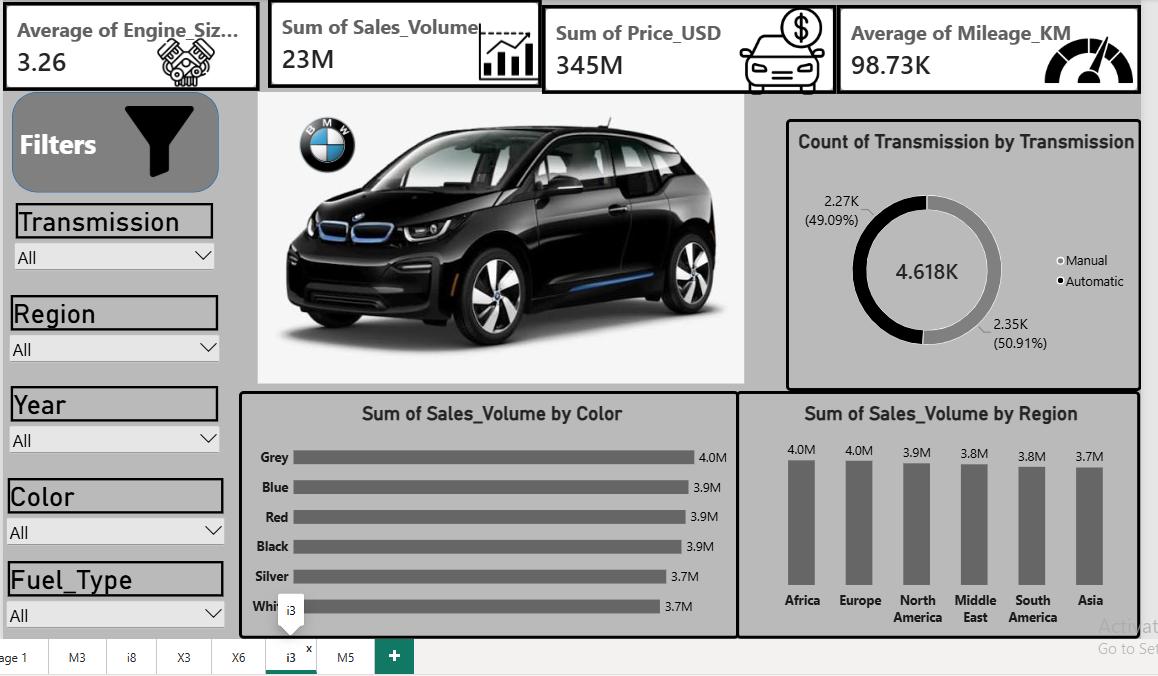

Layout of this report page (visuals, bound fields, positions):
{"tool":"powerbi","page":{"name":"i3","canvas":[1920,1080],"ordinal":5},"visuals":[{"type":"image","box":[362.4,156.1,954.2,491.6],"z":0},{"type":"slicer","fields":{"Values":["BMW_Car_Sales_Classification (1).Year"]},"box":[5.8,653.5,366.3,129.2],"z":1000},{"type":"slicer","fields":{"Values":["BMW_Car_Sales_Classification (1).Region"]},"box":[5.8,499.3,366.3,129.2],"z":2000},{"type":"slicer","fields":{"Values":["BMW_Car_Sales_Classification (1).Transmission"]},"box":[13.5,345.1,348.9,129.2],"z":3000},{"type":"slicer","fields":{"Values":["BMW_Car_Sales_Classification (1).Color"]},"box":[0,807.7,379.8,115.7],"z":4000},{"type":"slicer","fields":{"Values":["BMW_Car_Sales_Classification (1).Fuel_Type"]},"box":[0,948.4,379.8,131.1],"z":5000},{"type":"shape","box":[15.4,156.1,348.9,169.6],"z":6000},{"type":"image","box":[165.8,181.2,196.6,119.5],"z":7000},{"type":"image","box":[414.5,161.9,264.1,167.7],"z":8000},{"type":"barChart","fields":{"Category":["BMW_Car_Sales_Classification (1).Color"],"Y":["Sum(BMW_Car_Sales_Classification (1).Sales_Volume)"]},"box":[399,661.2,844.3,418.3],"z":9000},{"type":"columnChart","fields":{"Category":["BMW_Car_Sales_Classification (1).Region"],"Y":["Sum(BMW_Car_Sales_Classification (1).Sales_Volume)"]},"box":[1237.6,661.2,682.4,418.3],"z":10000},{"type":"donutChart","fields":{"Category":["BMW_Car_Sales_Classification (1).Transmission"],"Y":["CountNonNull(BMW_Car_Sales_Classification (1).Transmission)"]},"box":[1320.5,202.4,599.5,458.8],"z":11000},{"type":"cardVisual","fields":{"Data":["Sum(BMW_Car_Sales_Classification (1).Sales_Volume)"]},"box":[447.2,0,462.7,150.4],"z":12000},{"type":"cardVisual","fields":{"Data":["Sum(BMW_Car_Sales_Classification (1).Price_USD)"]},"box":[909.9,9.6,497.3,150.4],"z":13000},{"type":"cardVisual","fields":{"Data":["Avg(BMW_Car_Sales_Classification (1).Mileage_KM)"]},"box":[1407,10,513,150],"z":14000},{"type":"image","box":[1224.1,13.5,183.1,148.4],"z":15000},{"type":"image","box":[801.9,0,108,177.3],"z":17000},{"type":"image","box":[1744.6,28.9,175.4,148.4],"z":18000},{"type":"cardVisual","fields":{"Data":["Avg(BMW_Car_Sales_Classification (1).Engine_Size_L)"]},"box":[0,5.8,433.7,150.4],"z":19000},{"type":"image","box":[165.8,59.8,287.2,96.4],"z":20000}]}

Visuals, with their boxes on the page's 1920x1080 design canvas (x1, y1, x2, y2). These are canvas units, not pixel positions in the 1158x676 screenshot, which may show the page scaled, cropped or inside an application window:
image: <box>362,156,1317,648</box>
slicer - BMW_Car_Sales_Classification (1).Year: <box>6,654,372,783</box>
slicer - BMW_Car_Sales_Classification (1).Region: <box>6,499,372,628</box>
slicer - BMW_Car_Sales_Classification (1).Transmission: <box>14,345,362,474</box>
slicer - BMW_Car_Sales_Classification (1).Color: <box>0,808,380,923</box>
slicer - BMW_Car_Sales_Classification (1).Fuel_Type: <box>0,948,380,1080</box>
shape: <box>15,156,364,326</box>
image: <box>166,181,362,301</box>
image: <box>414,162,679,330</box>
barChart - BMW_Car_Sales_Classification (1).Color x Sum(BMW_Car_Sales_Classification (1).Sales_Volume): <box>399,661,1243,1080</box>
columnChart - BMW_Car_Sales_Classification (1).Region x Sum(BMW_Car_Sales_Classification (1).Sales_Volume): <box>1238,661,1920,1080</box>
donutChart - BMW_Car_Sales_Classification (1).Transmission x CountNonNull(BMW_Car_Sales_Classification (1).Transmission): <box>1320,202,1920,661</box>
cardVisual - Sum(BMW_Car_Sales_Classification (1).Sales_Volume): <box>447,0,910,150</box>
cardVisual - Sum(BMW_Car_Sales_Classification (1).Price_USD): <box>910,10,1407,160</box>
cardVisual - Avg(BMW_Car_Sales_Classification (1).Mileage_KM): <box>1407,10,1920,160</box>
image: <box>1224,14,1407,162</box>
image: <box>802,0,910,177</box>
image: <box>1745,29,1920,177</box>
cardVisual - Avg(BMW_Car_Sales_Classification (1).Engine_Size_L): <box>0,6,434,156</box>
image: <box>166,60,453,156</box>
